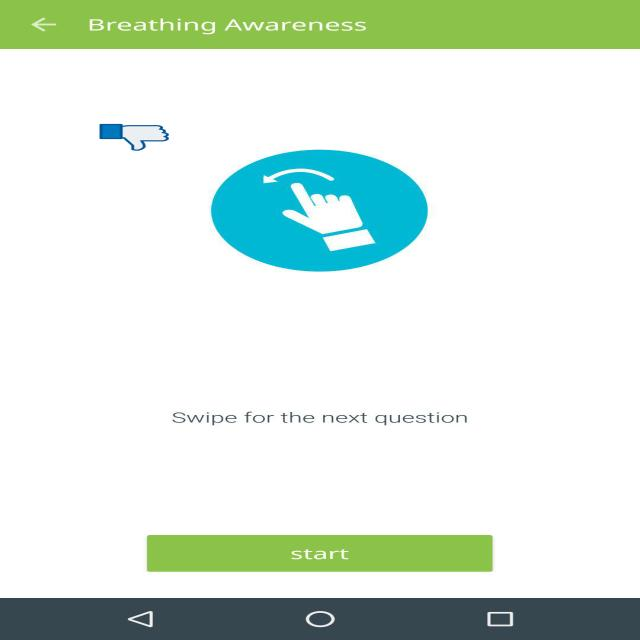obstruction: (99, 124, 169, 152)
